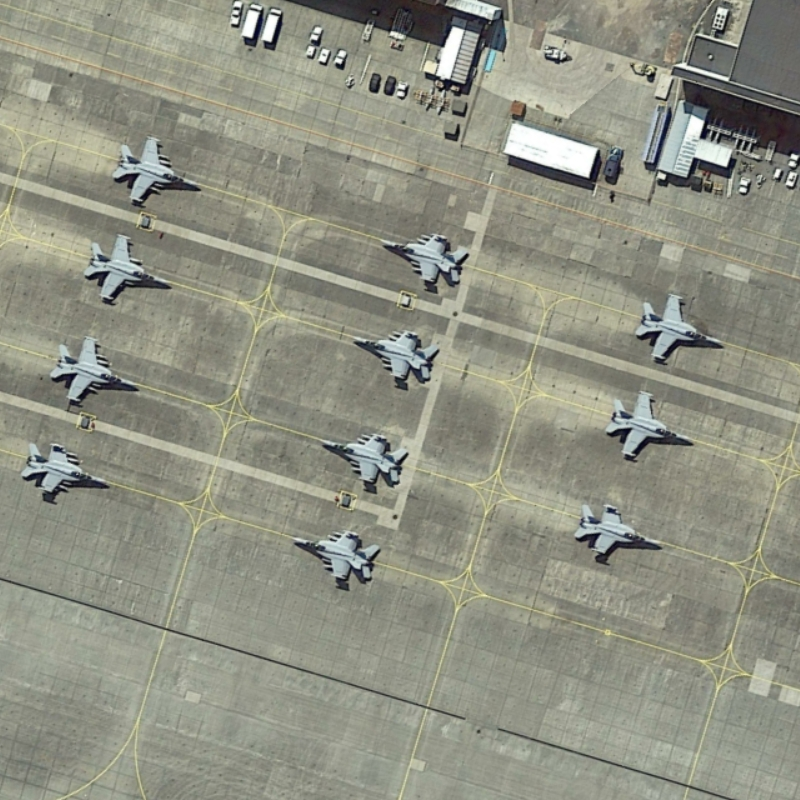A16: (370, 216, 482, 300), (627, 283, 735, 370), (598, 377, 698, 465), (43, 329, 149, 412), (76, 225, 180, 309), (343, 316, 449, 394), (570, 495, 667, 578), (14, 434, 115, 513), (109, 129, 206, 210), (283, 520, 388, 594), (308, 425, 414, 496)
